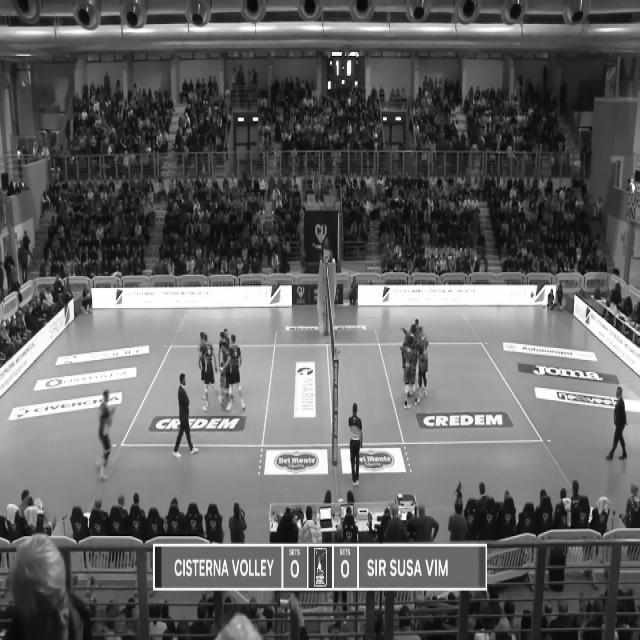volleyball court: (120, 342, 542, 446)
